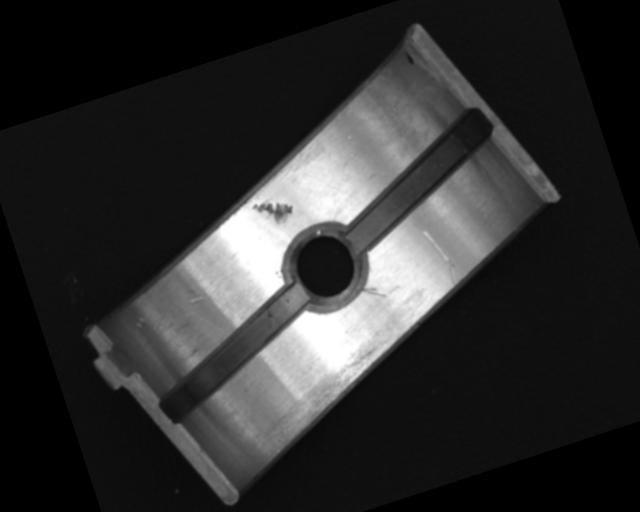blot: (403, 49, 415, 67)
bruise: (250, 193, 296, 232), (186, 292, 211, 308)
gap: (324, 108, 514, 254), (137, 285, 329, 425)
hole: (276, 212, 378, 319)
nick: (410, 216, 460, 296), (360, 282, 386, 304)
scratch: (246, 321, 429, 457)
